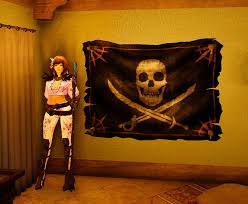Jolly Roger Flag: (79, 38, 226, 144)
